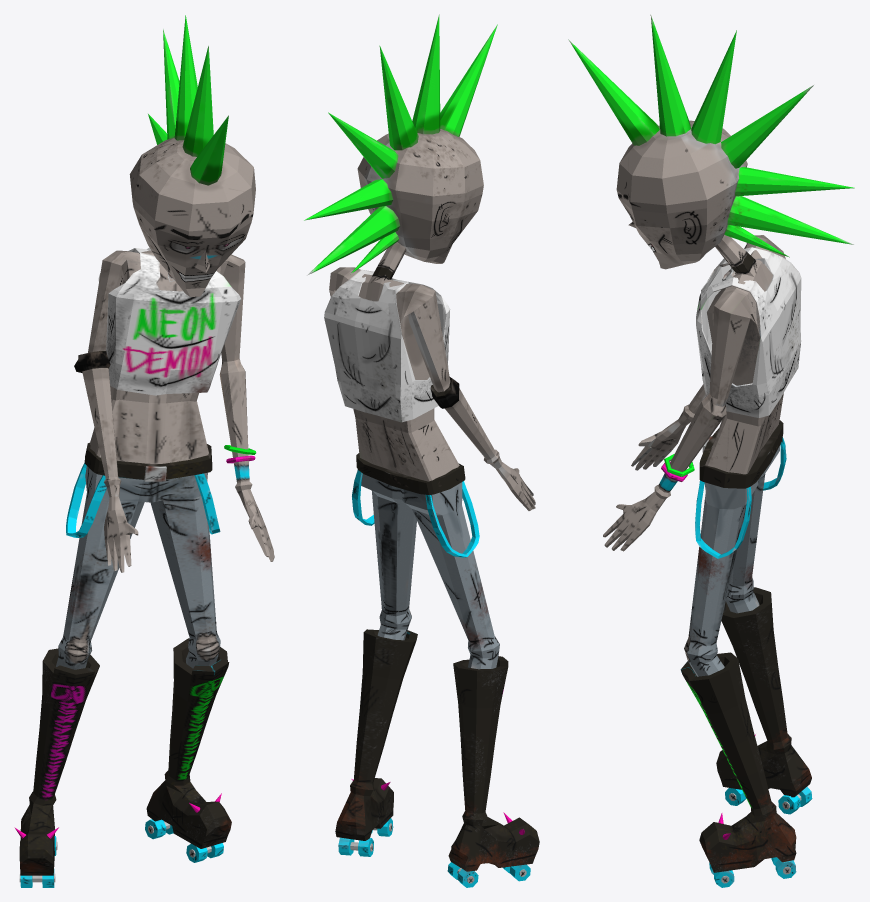
Rendered from punkAnimation_000001.obj.
3 views of the same model, side by side, from view 1: azimuth 30°, elevation 25°; view 2: azimuth 150°, elevation 25°; view 3: azimuth 270°, elevation 25° (orthographic). The views are drawn at different scales.
Visible parts, largest first — view 1: Cube.004_Cube.003; view 2: Cube.004_Cube.003; view 3: Cube.004_Cube.003.
Boxes of the visible parts, bbox=[...] form: Cube.004_Cube.003: bbox=[14, 15, 274, 887]; Cube.004_Cube.003: bbox=[304, 14, 539, 887]; Cube.004_Cube.003: bbox=[568, 14, 854, 887].
Size of the model in its own units: 2.05 by 7.47 by 2.29.
Materials: 1 (1 with a texture image).
